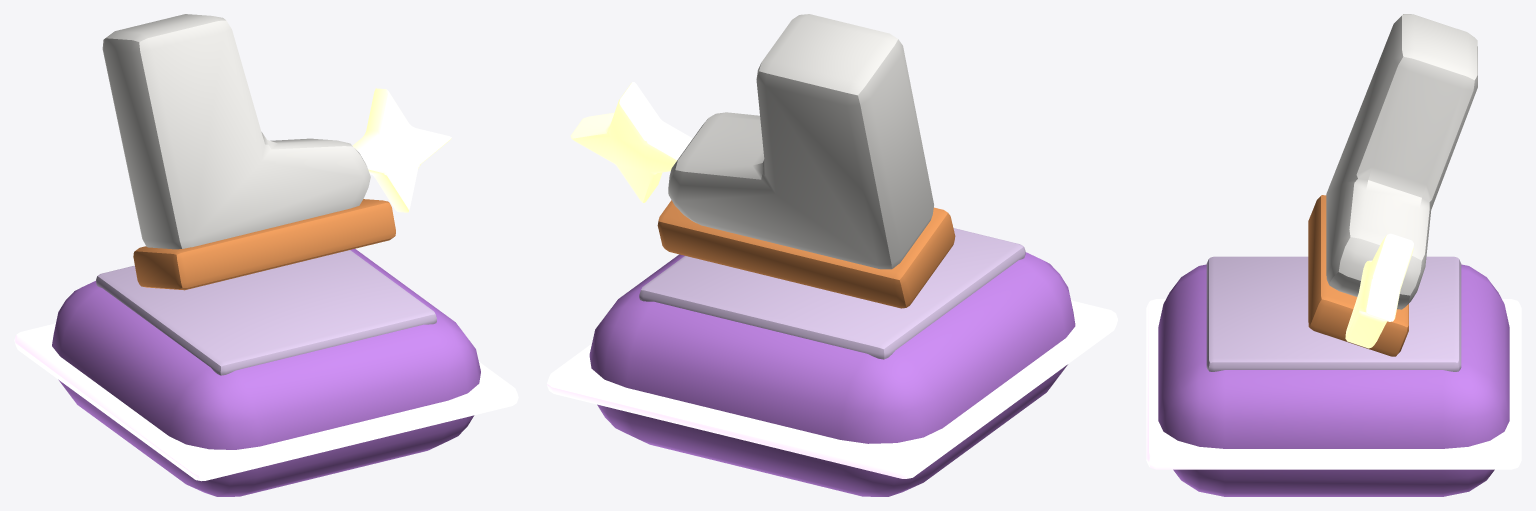
The model's file is pu_kick.glb.
3 views of the same model, side by side, from view 1: azimuth 30°, elevation 25°; view 2: azimuth 150°, elevation 25°; view 3: azimuth 270°, elevation 25° (orthographic). The views are drawn at different scales.
Visible parts, largest first — view 1: pu_kick; view 2: pu_kick; view 3: pu_kick.
Boxes of the visible parts, left/top/right/bottom form: pu_kick: left=14, top=14, right=518, bottom=496; pu_kick: left=547, top=14, right=1117, bottom=496; pu_kick: left=1146, top=14, right=1521, bottom=496.
Size of the model in its own units: 0.6982 by 0.7074 by 0.62.
